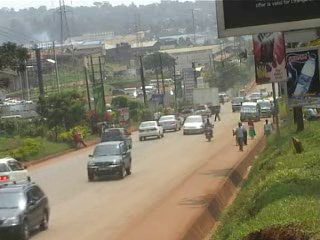Car: (0, 182, 53, 239), (85, 138, 133, 182), (0, 153, 34, 187), (100, 124, 135, 150), (136, 118, 165, 141), (181, 113, 206, 135), (156, 113, 182, 133), (196, 104, 211, 118)
Motorcycle: (199, 119, 215, 141)
